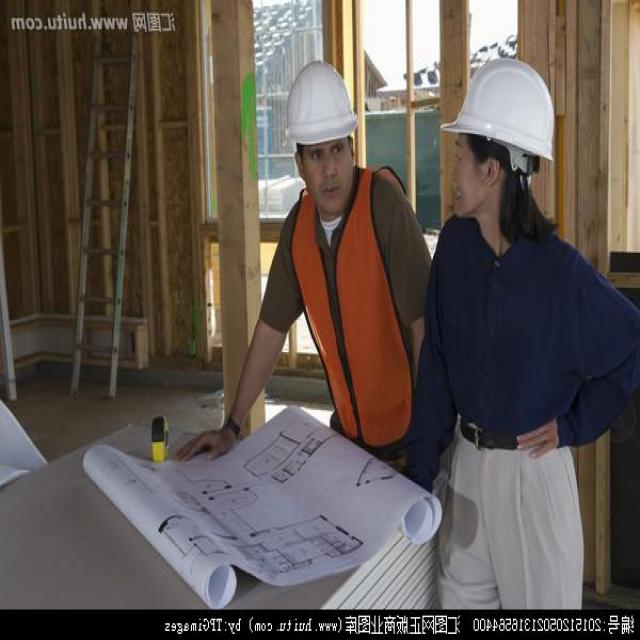Reflective-Jacket: (286, 170, 413, 452)
Safety-Helmet: (442, 49, 560, 169), (282, 55, 360, 155)
